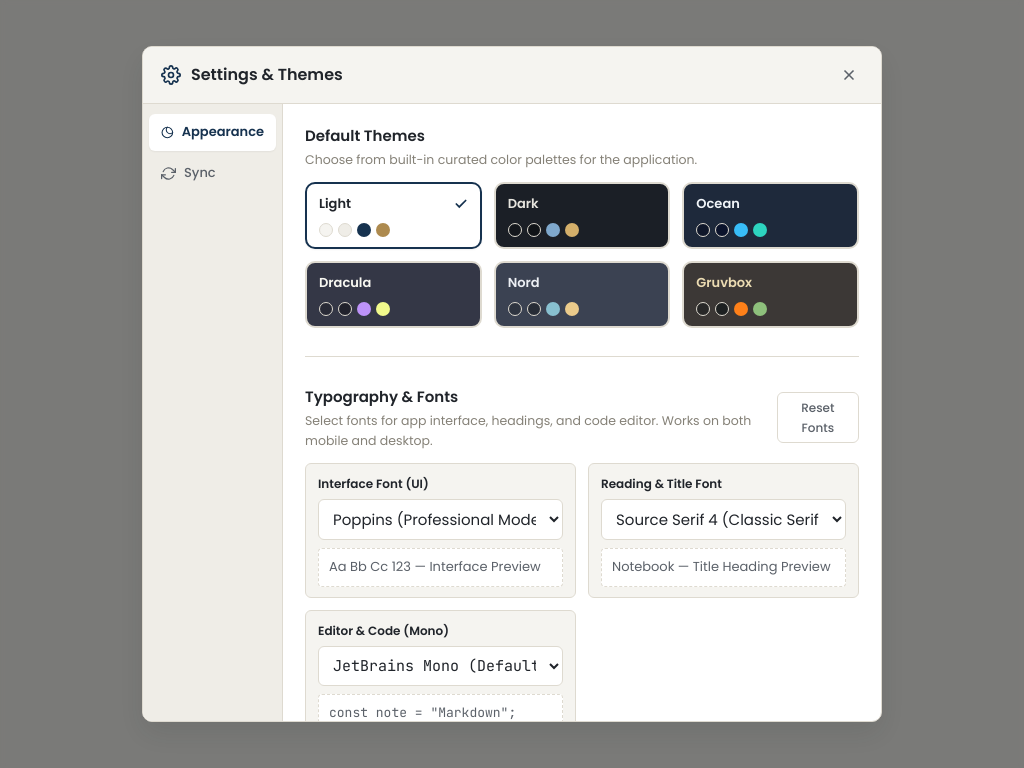
Test: DeletionActivity inside SettingsModal › shows single-recipient accepted, failed, superseded, and active pending statuses
The image size is (1024, 768).
Click the button "Sync" at (212, 173), box [149, 155, 276, 192]
(page scrolled)
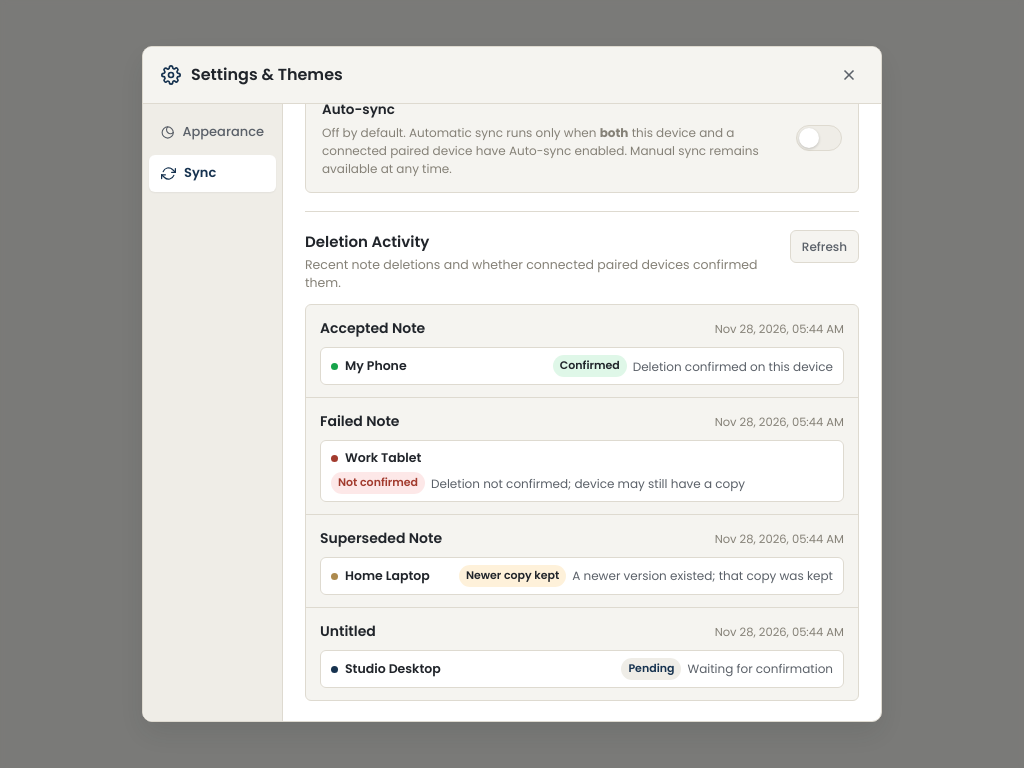
Expected: the element with test id "deletion-activity-item" shows "Accepted Note", [320, 318, 425, 338]
Expected: the element with test id "deletion-activity-item" shows "My Phone", [345, 357, 407, 374]
Expected: the element with test id "deletion-activity-item" shows "Deletion confirmed on this device", [633, 358, 833, 374]
